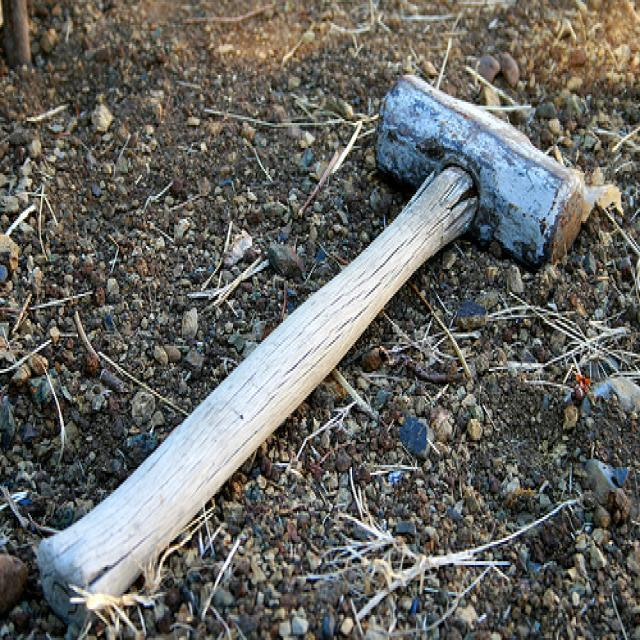hammer: (36, 65, 600, 624)
